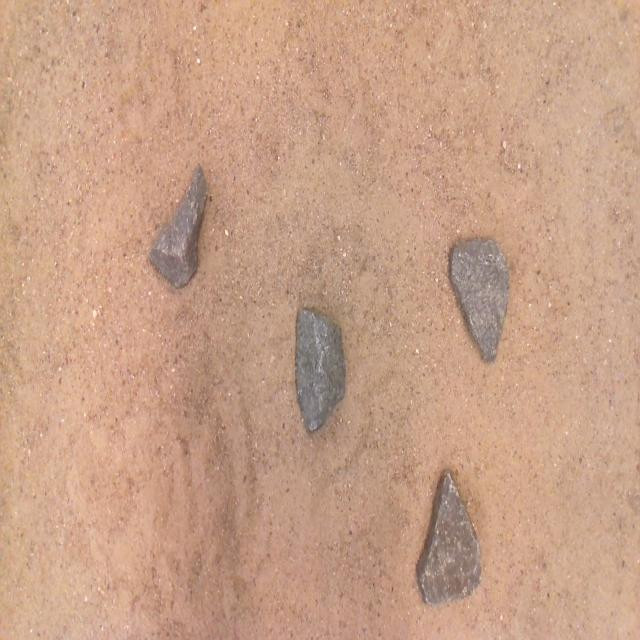rock: (417, 471, 480, 604), (148, 165, 208, 287), (451, 239, 509, 361), (296, 309, 345, 431)
